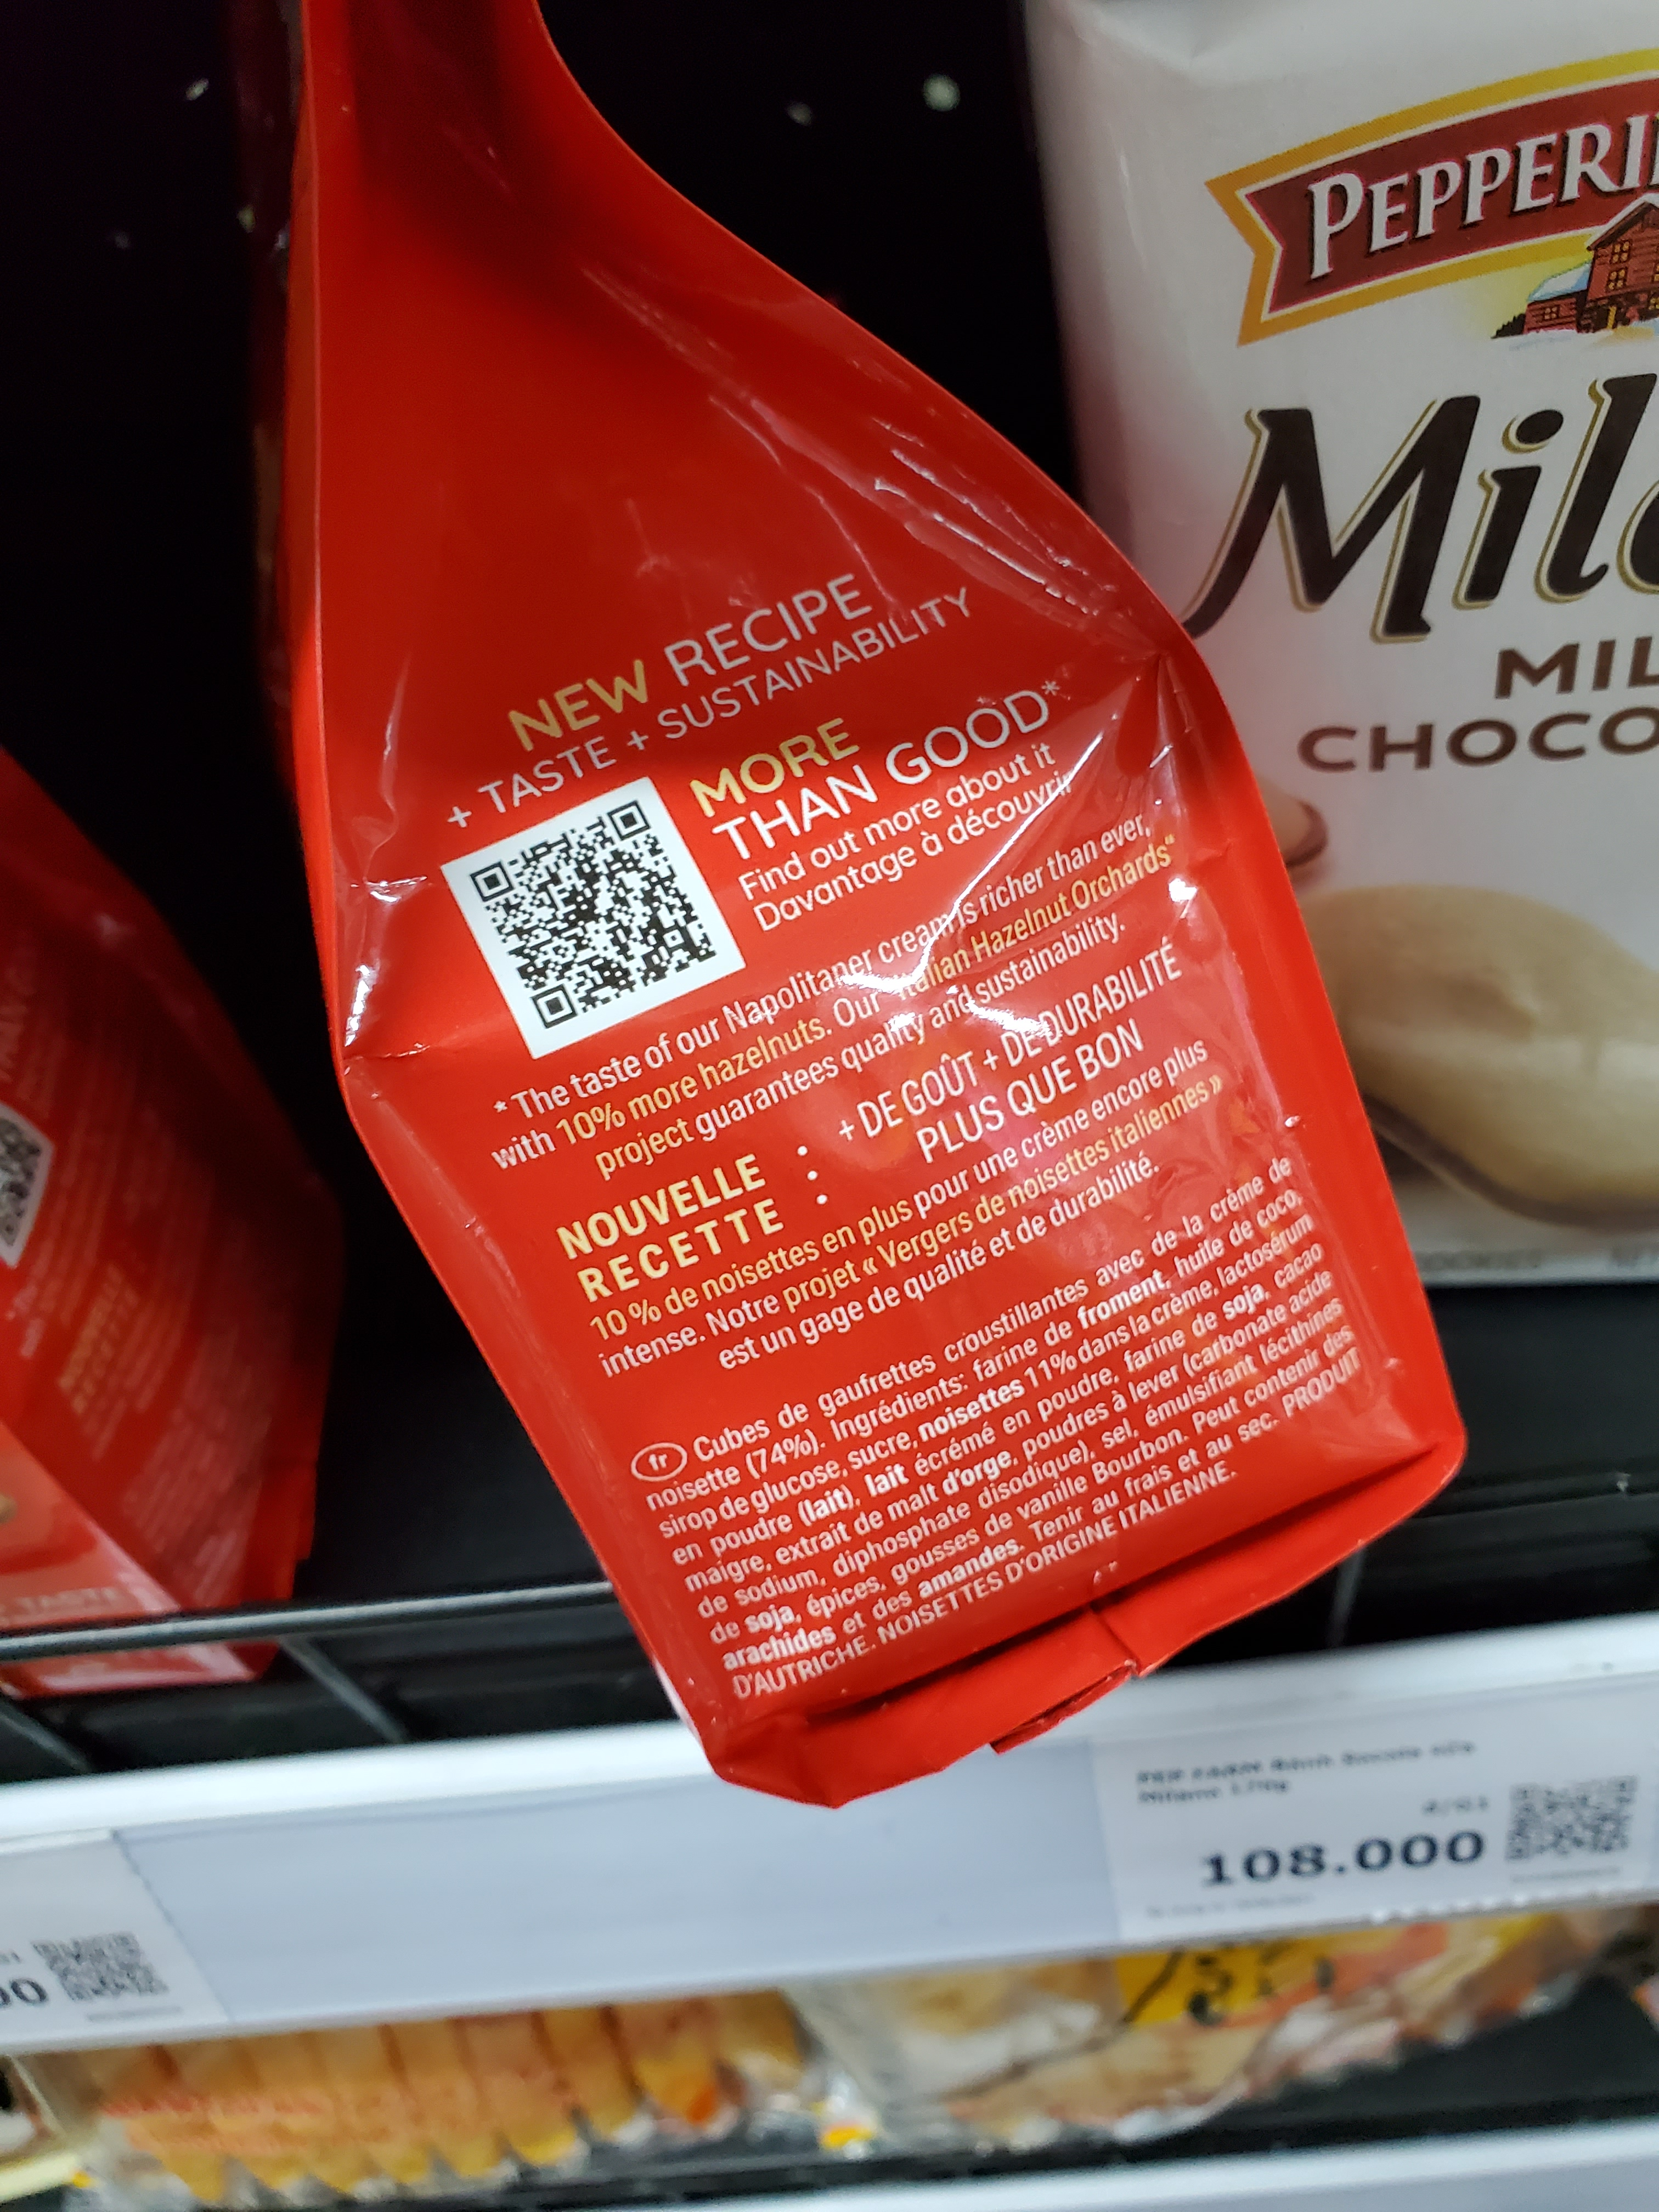qr code: (425, 782, 758, 1061)
